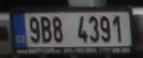1: (113, 16, 122, 42)
3: (89, 16, 99, 42)
4: (78, 16, 87, 43)
8: (53, 17, 63, 43)
9: (100, 16, 110, 42), (30, 17, 40, 42)
B: (41, 16, 51, 43)
